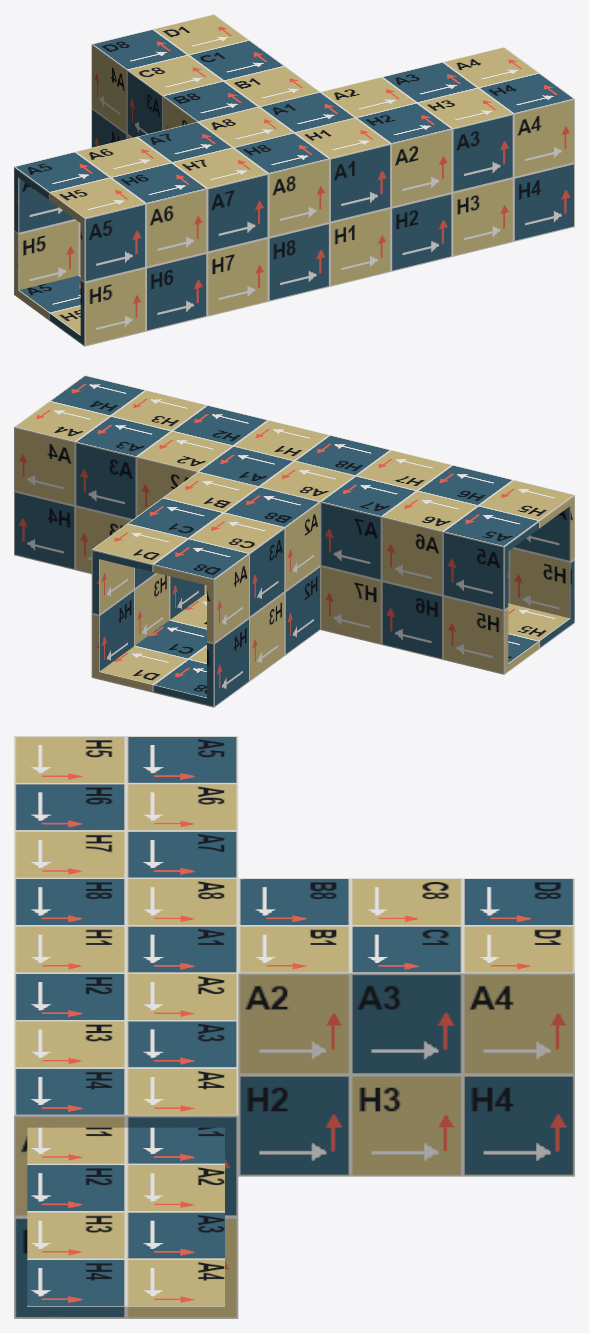
The model's file is DUCT_Tee.fbx.
3 views of the same model, one above another, from view 1: azimuth 30°, elevation 25°; view 2: azimuth 150°, elevation 25°; view 3: azimuth 270°, elevation 25° (orthographic). The views are drawn at different scales.
Visible parts, largest first — view 1: DUCT_Tee; view 2: DUCT_Tee; view 3: DUCT_Tee.
Part boxes in pixels (x1=…): DUCT_Tee: x1=14, y1=14, x2=574, y2=346; DUCT_Tee: x1=14, y1=375, x2=574, y2=707; DUCT_Tee: x1=14, y1=736, x2=574, y2=1318.
Size of the model in its own units: 200 by 50 by 125.
Materials: 1 (1 with a texture image).
